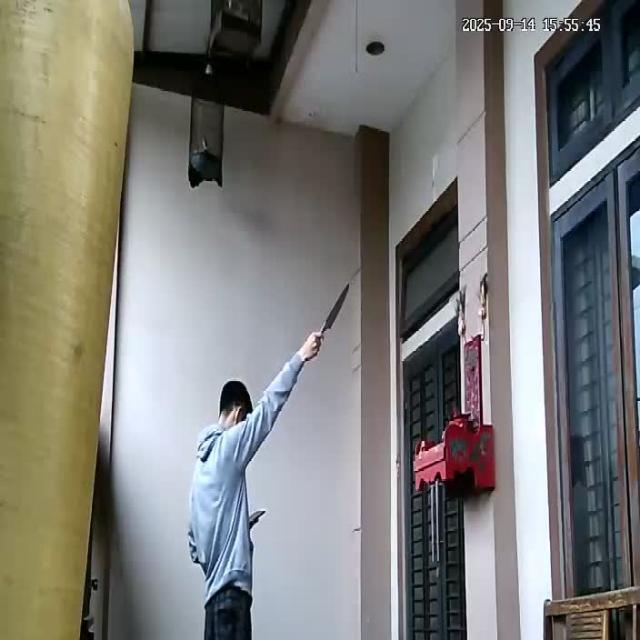senjata_tajam: (318, 280, 352, 336)
